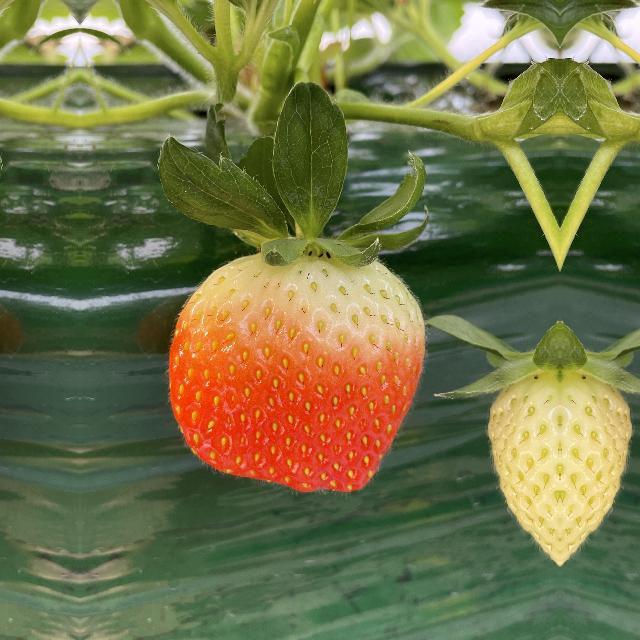Health_100: (154, 226, 430, 498)
Health_25: (479, 344, 559, 580), (561, 343, 640, 580)
